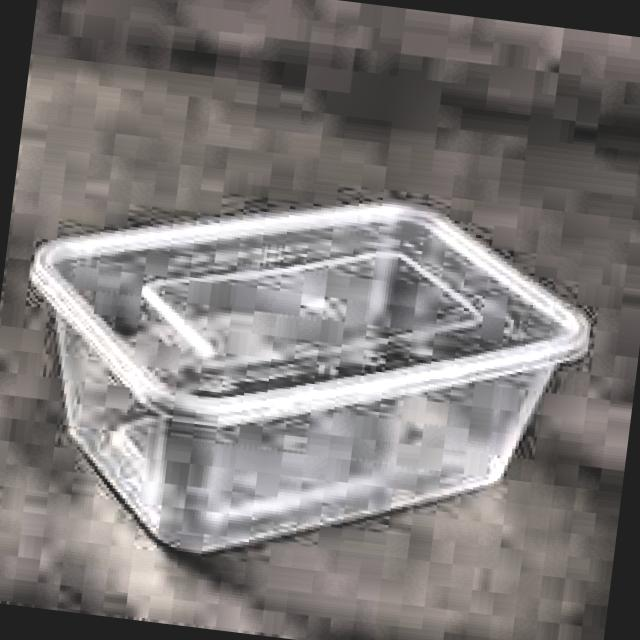plastic container: (30, 201, 589, 552)
